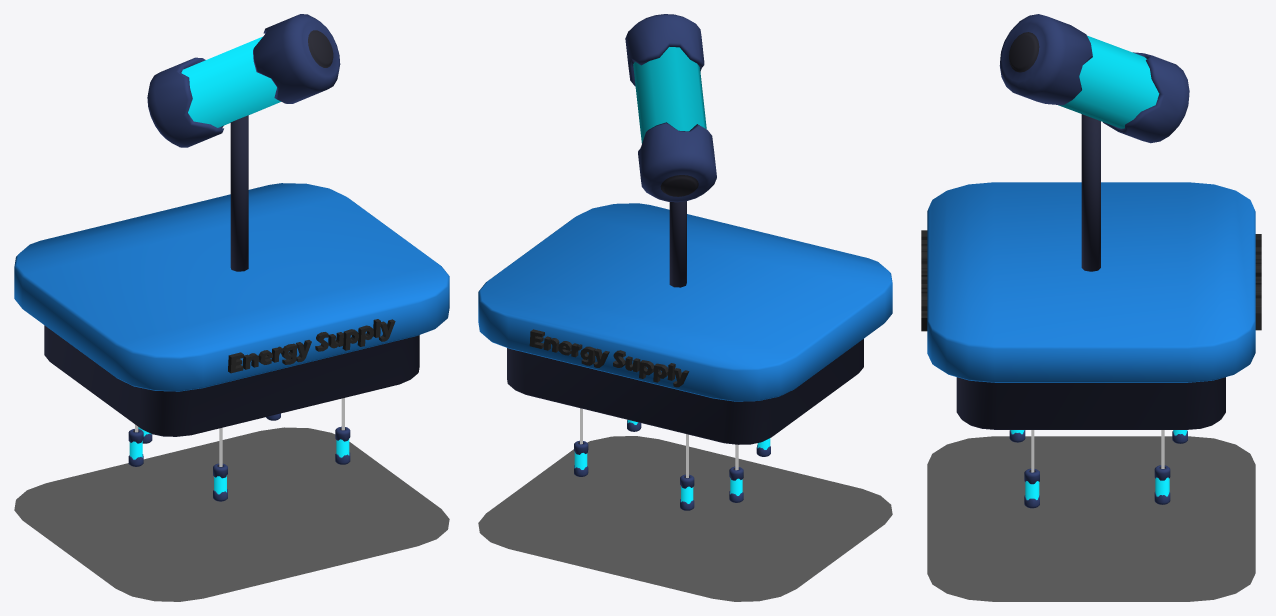
File: CycleEngine_stand_v2 (1).fbx
3 views of the same model, side by side, from view 1: azimuth 30°, elevation 25°; view 2: azimuth 150°, elevation 25°; view 3: azimuth 270°, elevation 25° (orthographic). The views are drawn at different scales.
Parts seen in each view (by area): view 1: Cylinder.002, Cylinder.011, middle, Cylinder.009, Cube.005; view 2: Cylinder.002, Cylinder.011, middle, Cube.003, Cylinder.009; view 3: Cylinder.002, Cylinder.011, middle, Cylinder.009, Cube.005, Cube.003, middle.004, middle.002.
Part boxes in pixels (x1,y1,x2,y2): Cylinder.002: (14,183,449,436); Cylinder.011: (14,427,449,601); middle: (147,14,340,147); Cylinder.009: (230,115,248,271); Cube.005: (228,319,395,373); Cylinder.002: (478,203,892,444); Cylinder.011: (478,436,892,601); middle: (625,14,716,202); Cube.003: (529,329,689,387); Cylinder.009: (669,201,686,287); Cylinder.002: (927,182,1255,429); Cylinder.011: (927,436,1255,601); middle: (999,14,1189,143); Cylinder.009: (1081,114,1100,271); Cube.005: (921,230,927,331); Cube.003: (1255,234,1261,330); middle.004: (1154,465,1170,504); middle.002: (1024,468,1039,508).
Size of the model in its own units: 1238 by 1825 by 1075.
